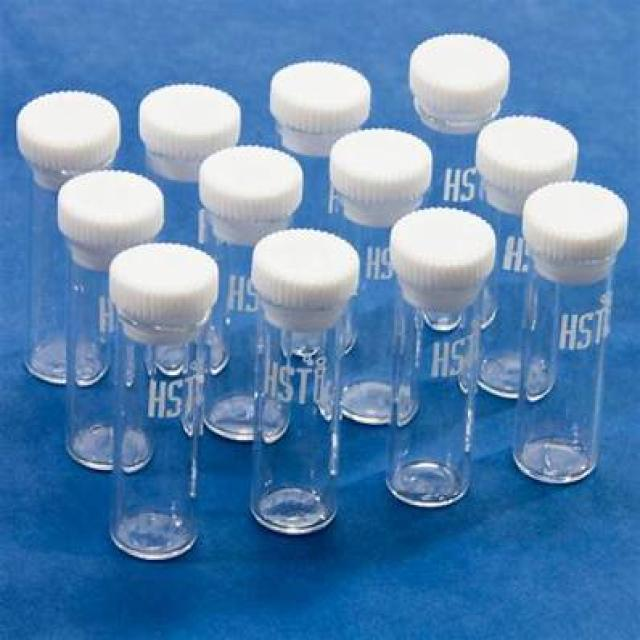vial: (376, 200, 502, 282), (109, 243, 214, 312), (195, 138, 302, 204), (269, 52, 373, 116), (60, 170, 166, 232), (21, 90, 125, 153), (524, 183, 624, 247), (260, 234, 357, 298), (332, 122, 429, 185), (416, 35, 510, 92), (484, 120, 576, 173), (146, 85, 236, 132)
